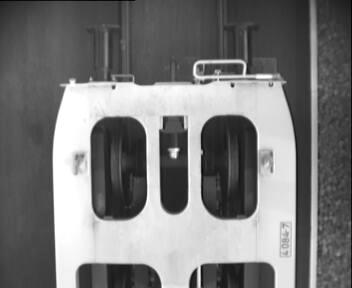twist_lock_2: (76, 110, 267, 227)
